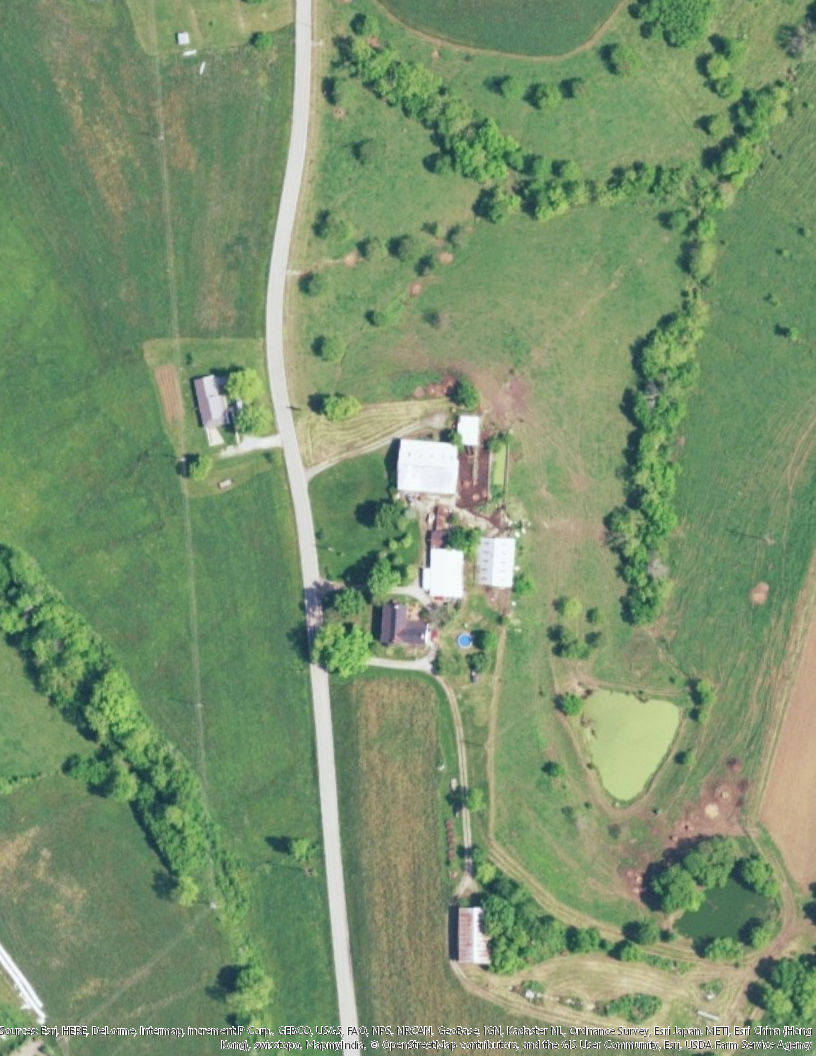cafo: (383, 422, 499, 509), (418, 514, 470, 600), (471, 520, 528, 593)
